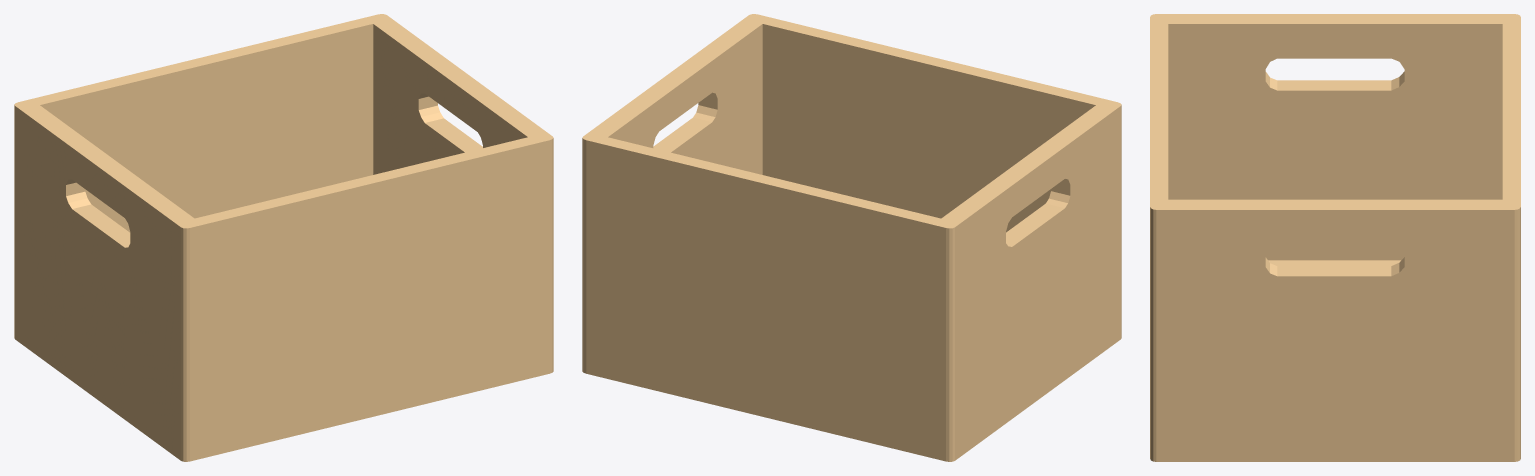
Rendered from caixa_4.1.fbx.
The picture shows the model from 3 angles, left to right: view 1: azimuth 30°, elevation 25°; view 2: azimuth 150°, elevation 25°; view 3: azimuth 270°, elevation 25°; orthographic projection. The views are drawn at different scales.
Visible parts, largest first — view 1: Caixa; view 2: Caixa; view 3: Caixa.
Part boxes in pixels (bbox=[...]): Caixa: bbox=[14, 14, 553, 461]; Caixa: bbox=[582, 14, 1121, 461]; Caixa: bbox=[1150, 14, 1520, 461].
Size of the model in its own units: 50 by 30 by 40.
